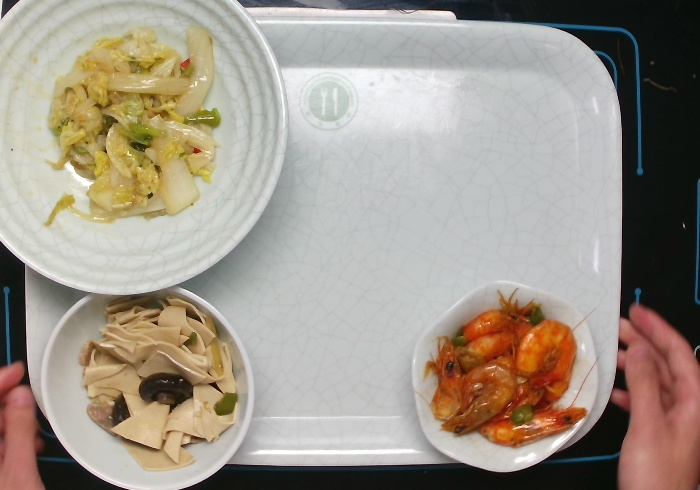JYsf-Da_Tang_Wan: (4, 1, 294, 295)
JYsf-Fan_Wan: (39, 264, 256, 490)
WCQzf-Hua_Duo_Wan: (407, 278, 598, 479)
